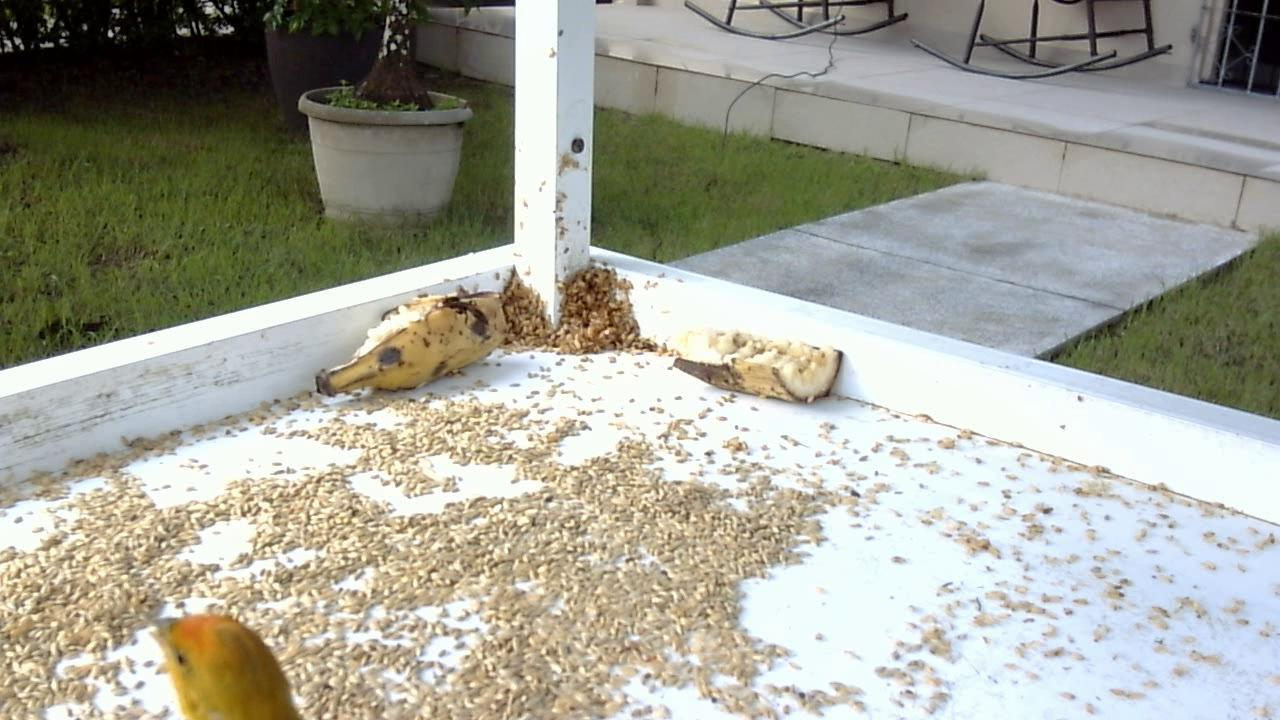canario_do_amazonas: (132, 601, 316, 718)
